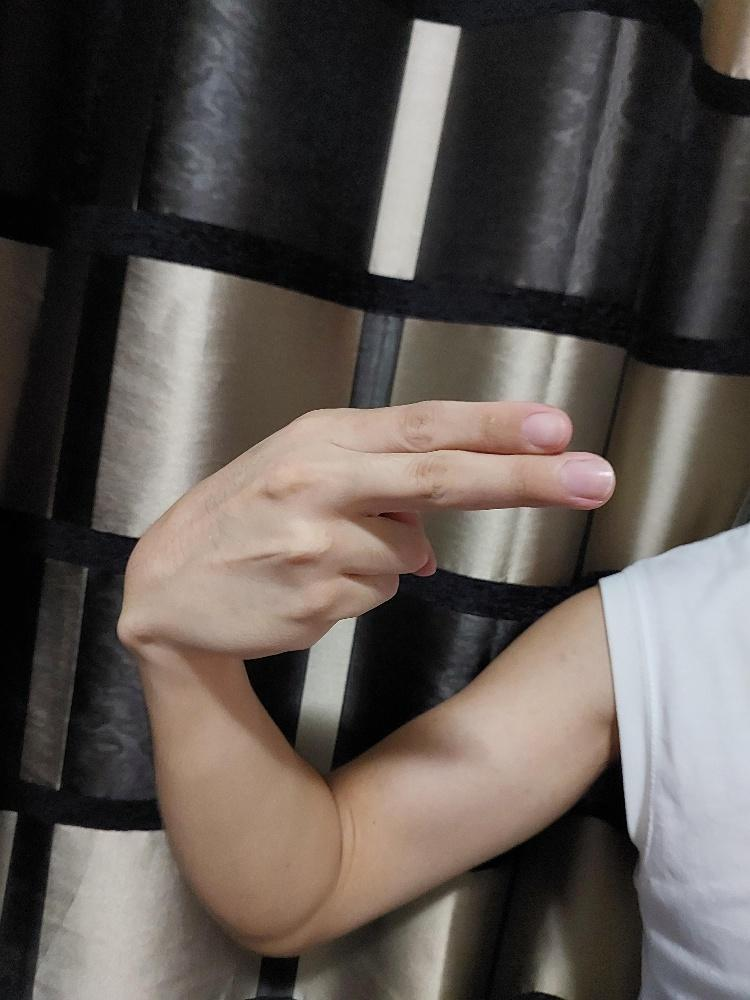h: (114, 391, 618, 661)
